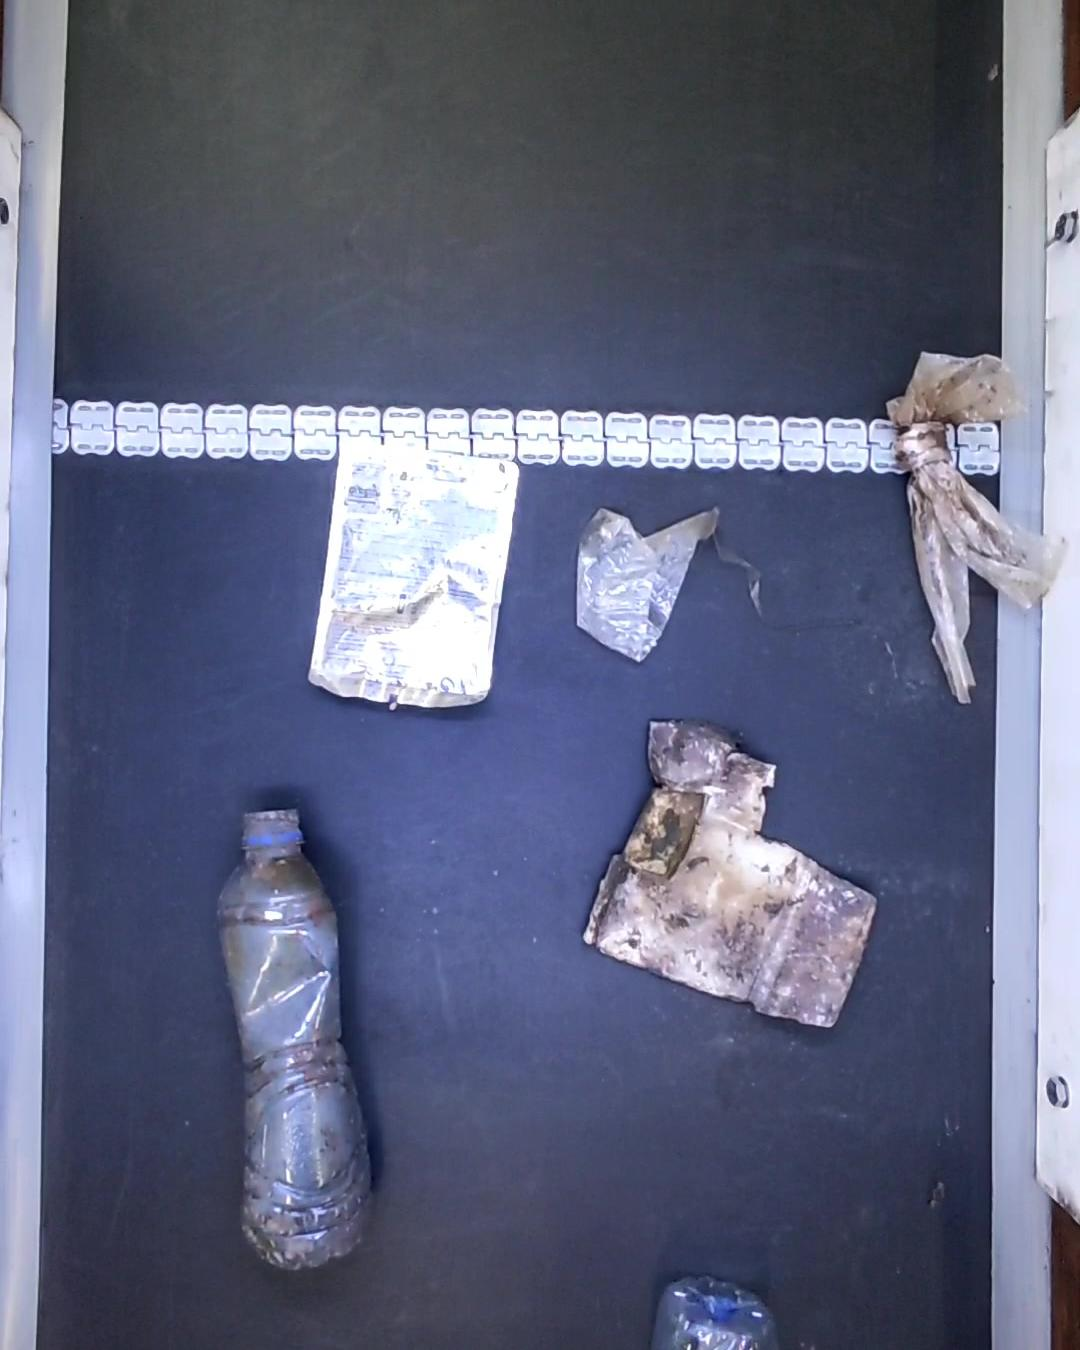Drankflessen - 1-2 liter: (220, 791, 376, 1271), (646, 1275, 791, 1350)
Plastic folies of stukken daarvan 2.5- 50 cm: (887, 349, 1072, 705), (573, 503, 779, 665)
